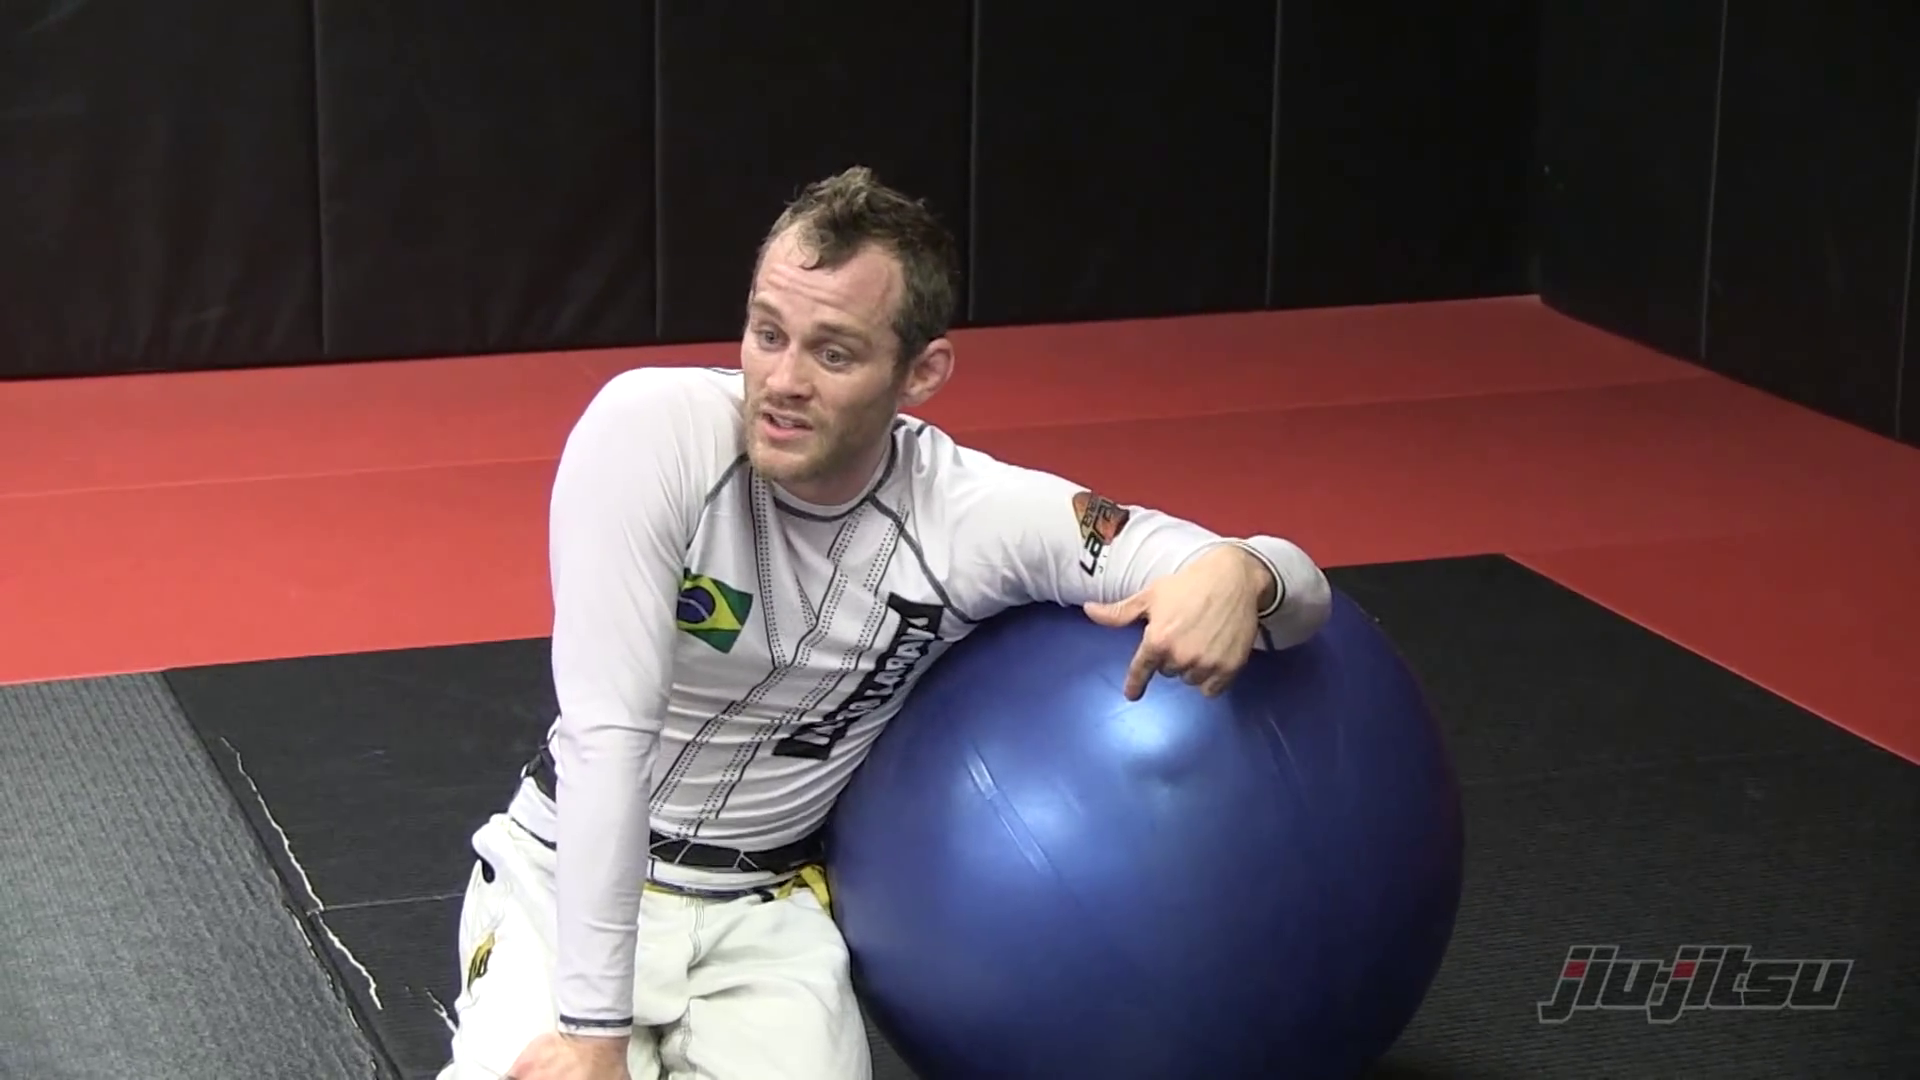yogaball: (816, 578, 1466, 1080)
